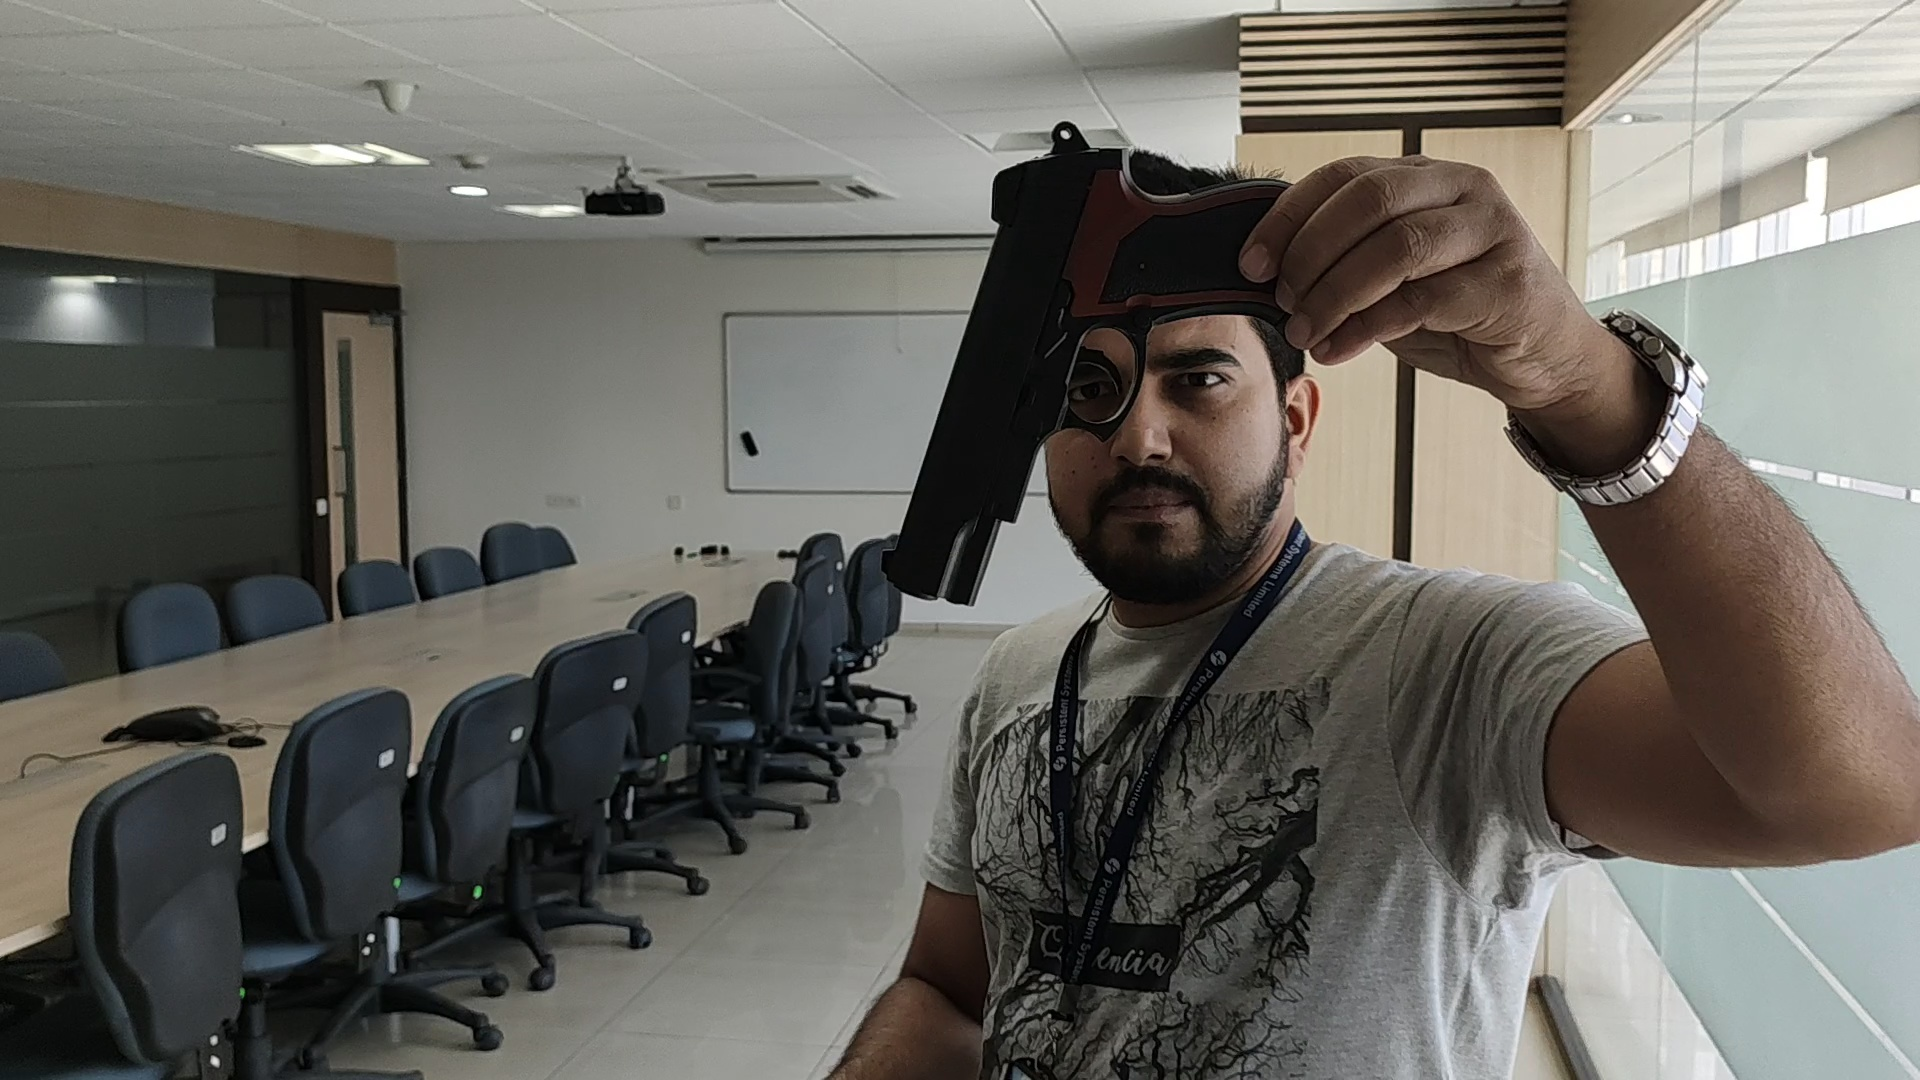gun: (880, 117, 1238, 597)
